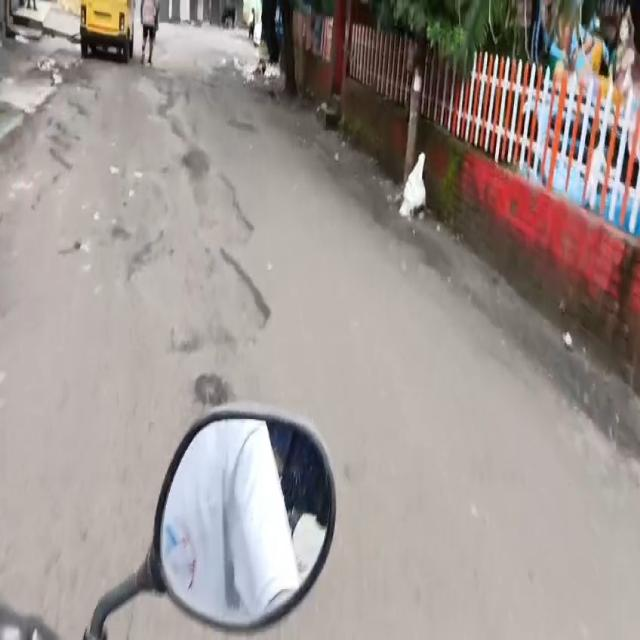road-pothole: (126, 152, 265, 352), (26, 71, 89, 215), (196, 378, 229, 402)
